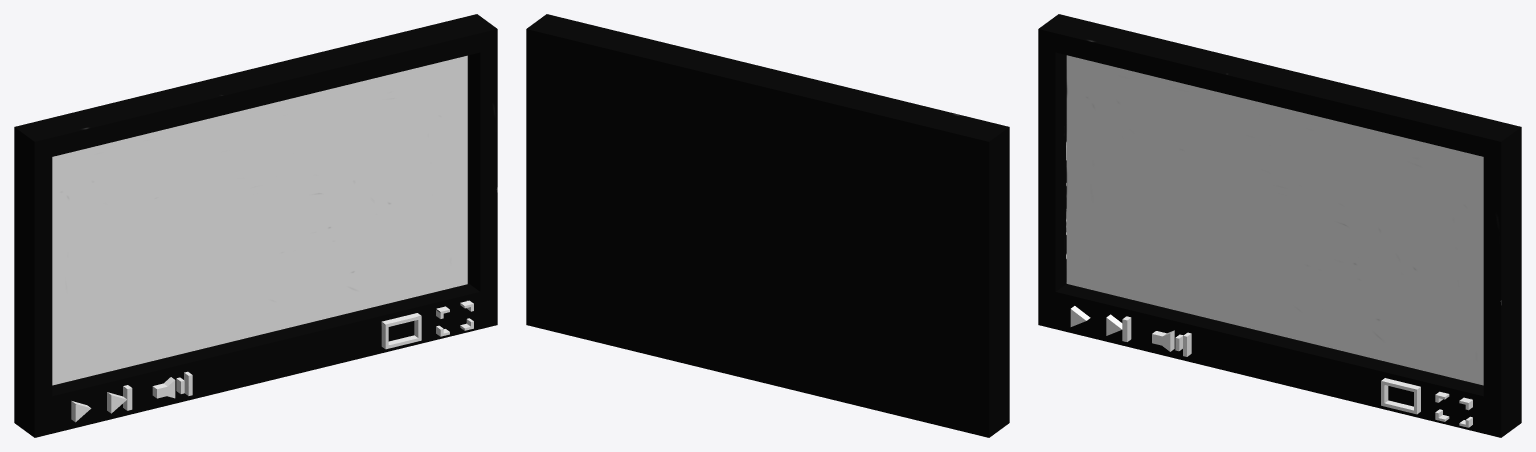
Rendered from youtubes.gltf.
The picture shows the model from 3 angles, left to right: view 1: azimuth 30°, elevation 25°; view 2: azimuth 150°, elevation 25°; view 3: azimuth 330°, elevation 25°; orthographic projection.
Parts seen in each view (by area): view 1: 立方体.001; view 2: 立方体.001; view 3: 立方体.001.
Part boxes in pixels (x1,y1,x2,y2): 立方体.001: (14,14,497,437); 立方体.001: (526,14,1009,437); 立方体.001: (1038,14,1521,437).
Bounding box in the file's own units: 26.09 × 15.94 × 2.44.
1 material, 1 textured.
